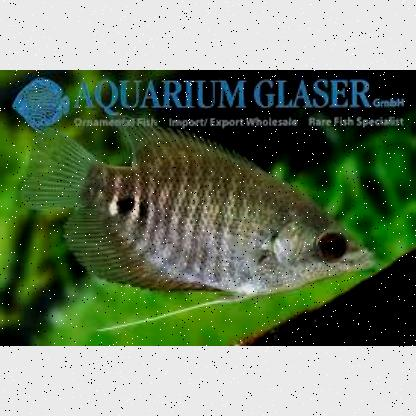gurame: (32, 123, 378, 299)
